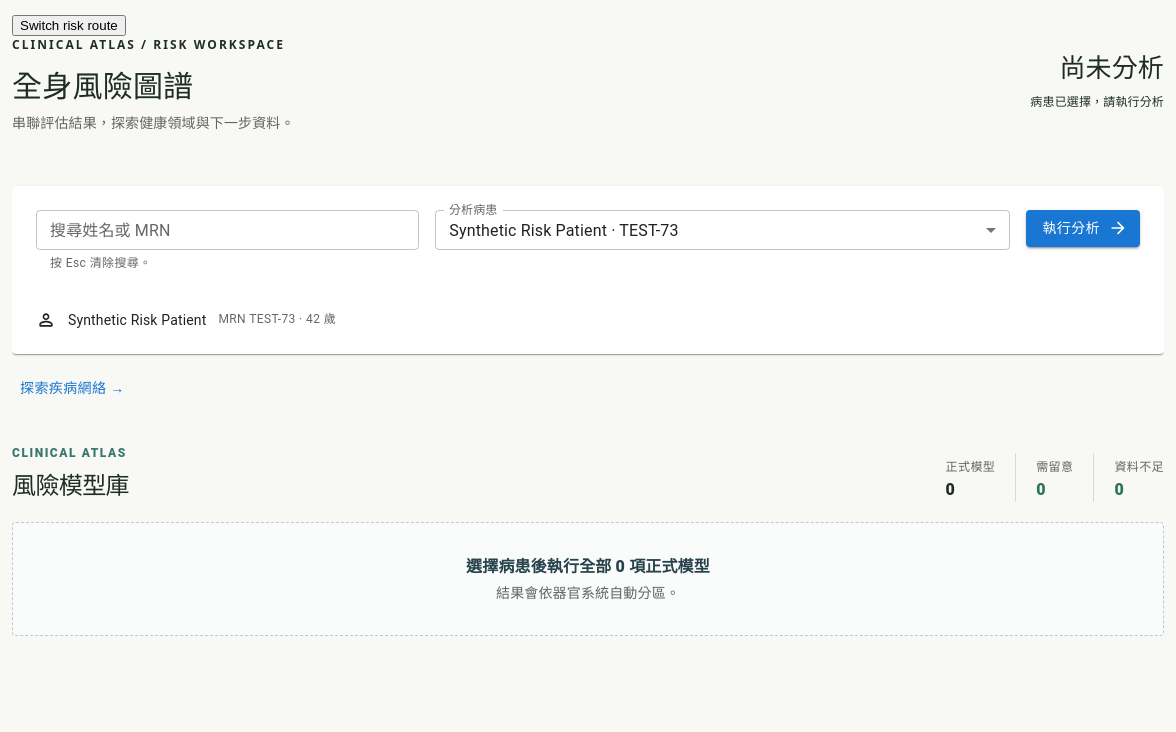
Test: selecting another patient clears previous result and identity
Click the button "執行分析" at (1083, 228), box [1026,210,1140,246]
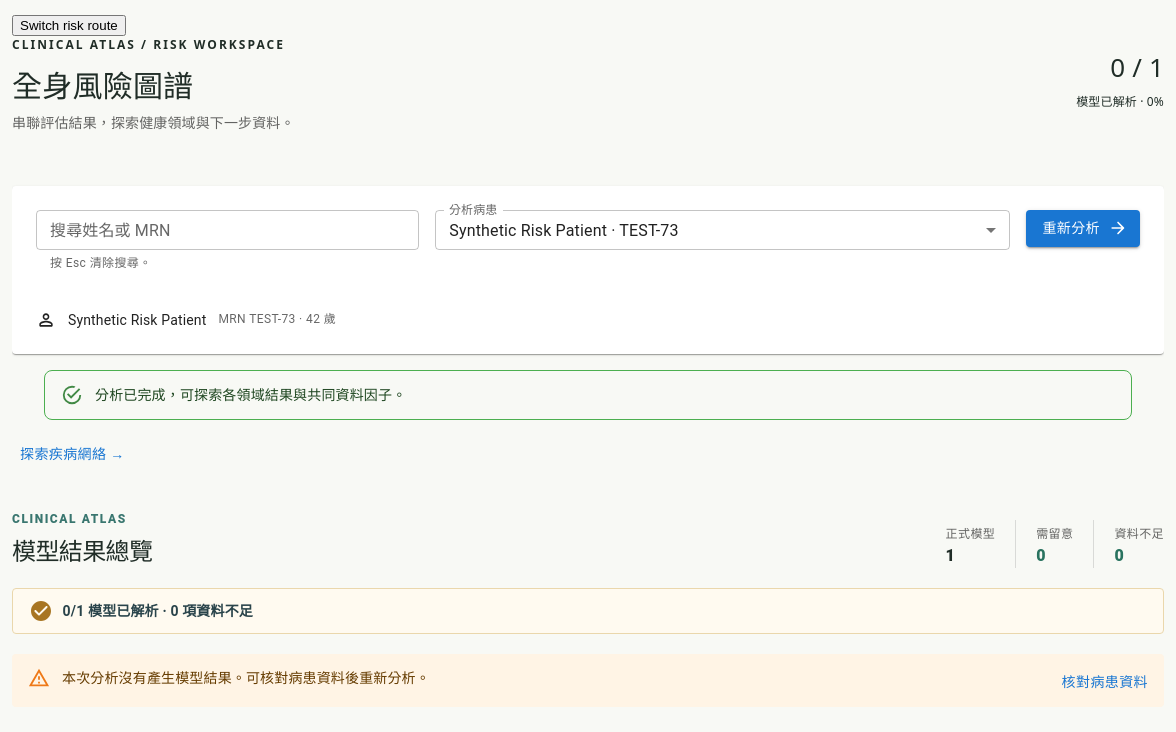
Now the text "分析已完成，可探索各領域結果與共同資料因子。" is shown, box [95,387,406,403]
Now the heading "模型結果總覽" is shown, box [12,536,152,568]
Press the mouse on the dropdown named "分析病患" at (564, 230), box [449,220,679,240]
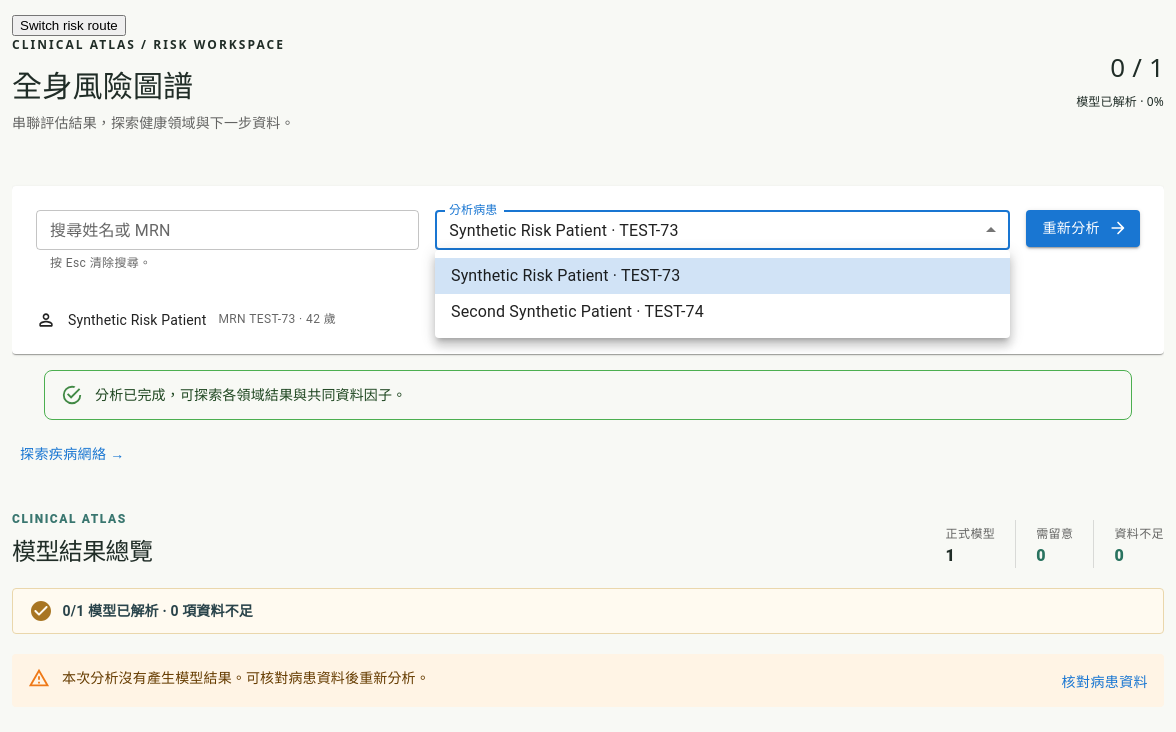
Click the option "Second Synthetic Patient · TEST-74" at (577, 312), box [451,302,704,321]
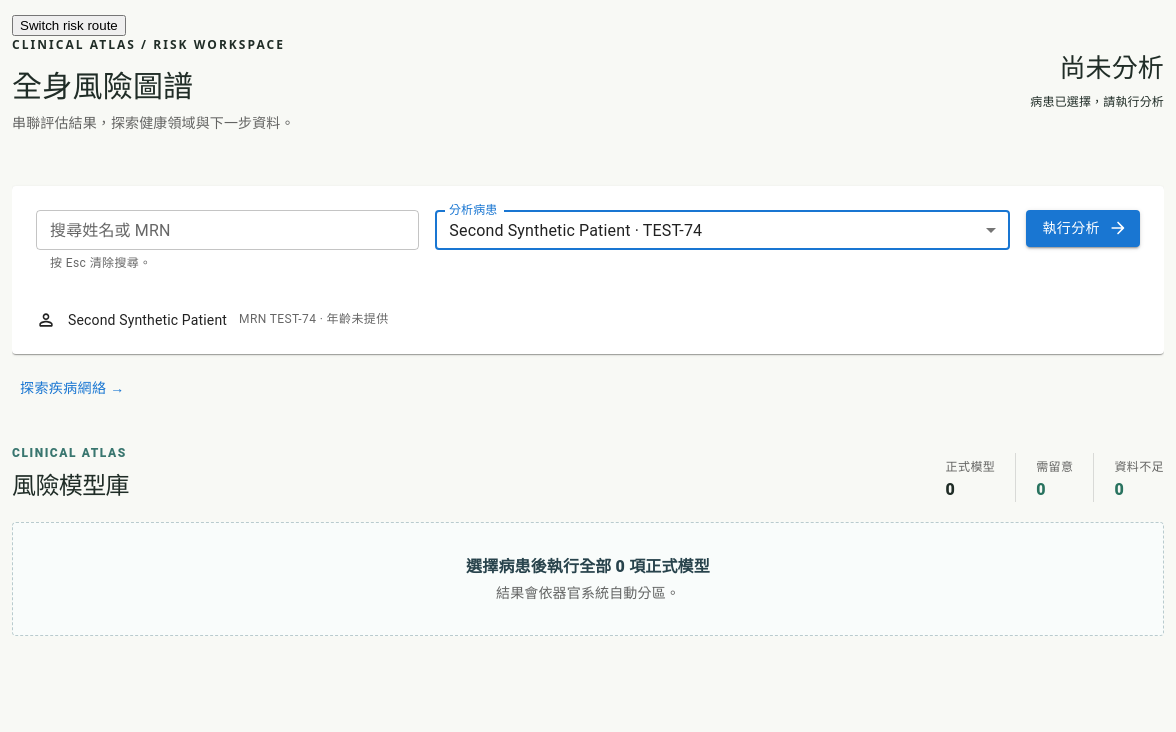
Expected: the button "執行分析" is enabled, [1026,210,1140,246]
Now the heading "模型結果總覽" is gone
Now the text "核對病患資料" is gone
